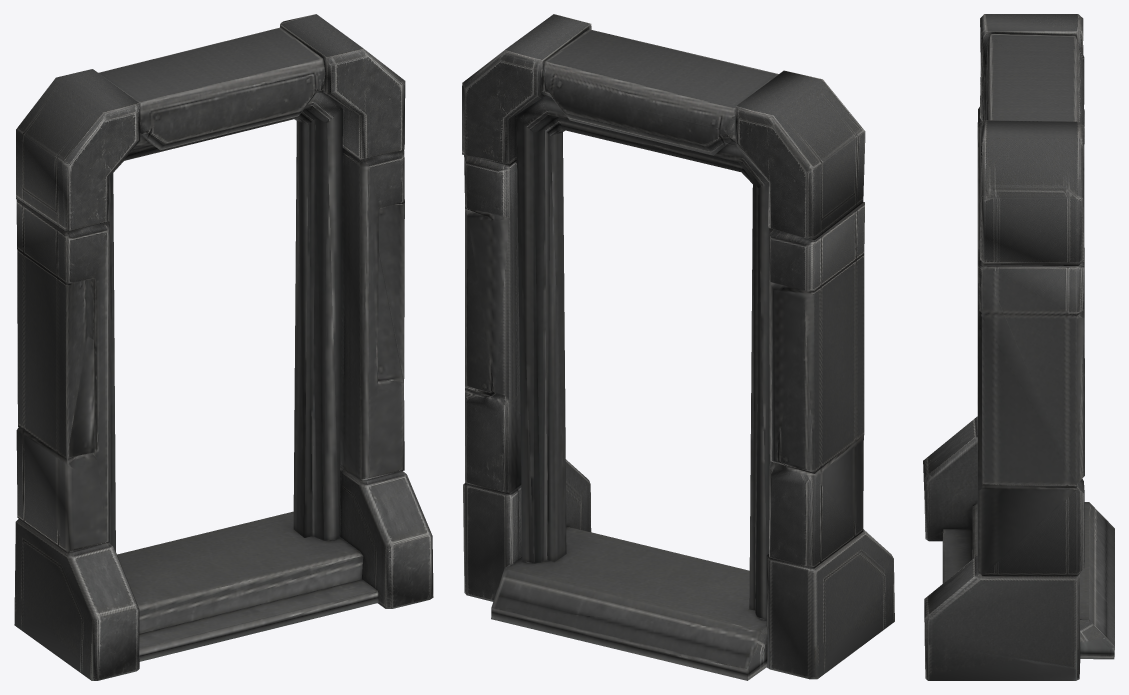
Rendered from Door Frame 1.glb.
3 renders of one model, left to right at view 1: azimuth 30°, elevation 25°; view 2: azimuth 150°, elevation 25°; view 3: azimuth 270°, elevation 25°, orthographic. The views are drawn at different scales.
Size of the model in its own units: 1.34 by 2 by 0.6641.
Materials: 1 (1 with a texture image).
